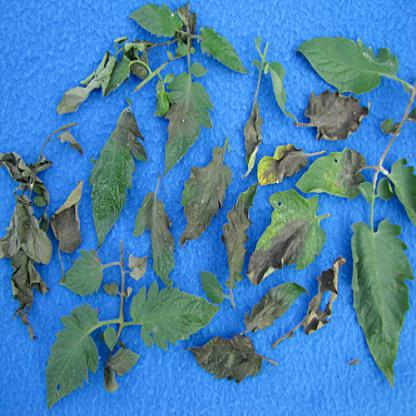tomato leaf late blight: (345, 206, 415, 387), (248, 189, 330, 296), (87, 104, 147, 243), (128, 284, 232, 346), (161, 67, 215, 172), (179, 138, 234, 241), (217, 180, 263, 288), (138, 180, 181, 286), (241, 277, 315, 336), (298, 143, 369, 202), (194, 29, 249, 73)
